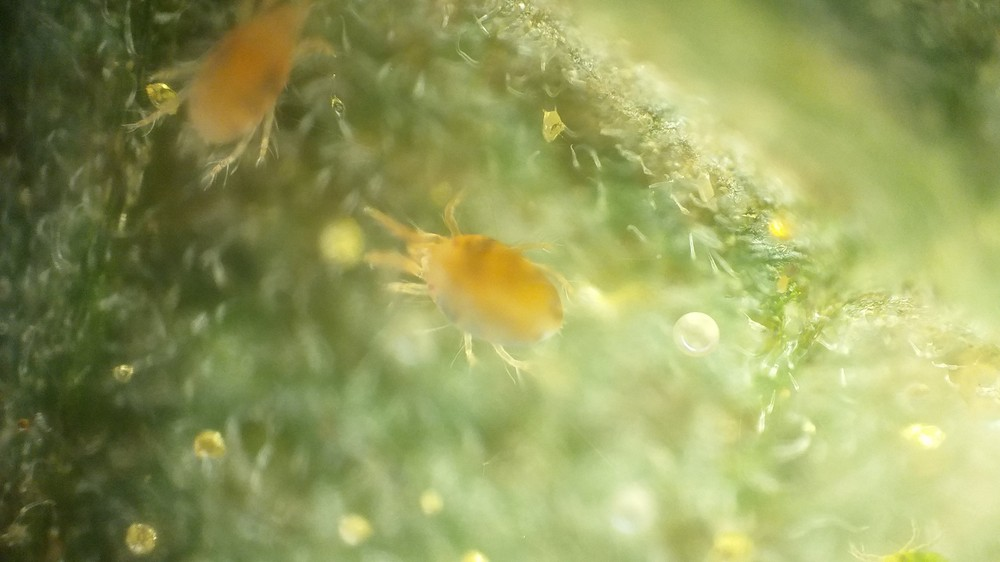Aracnido Rojo: (347, 184, 597, 407), (140, 6, 347, 174)
